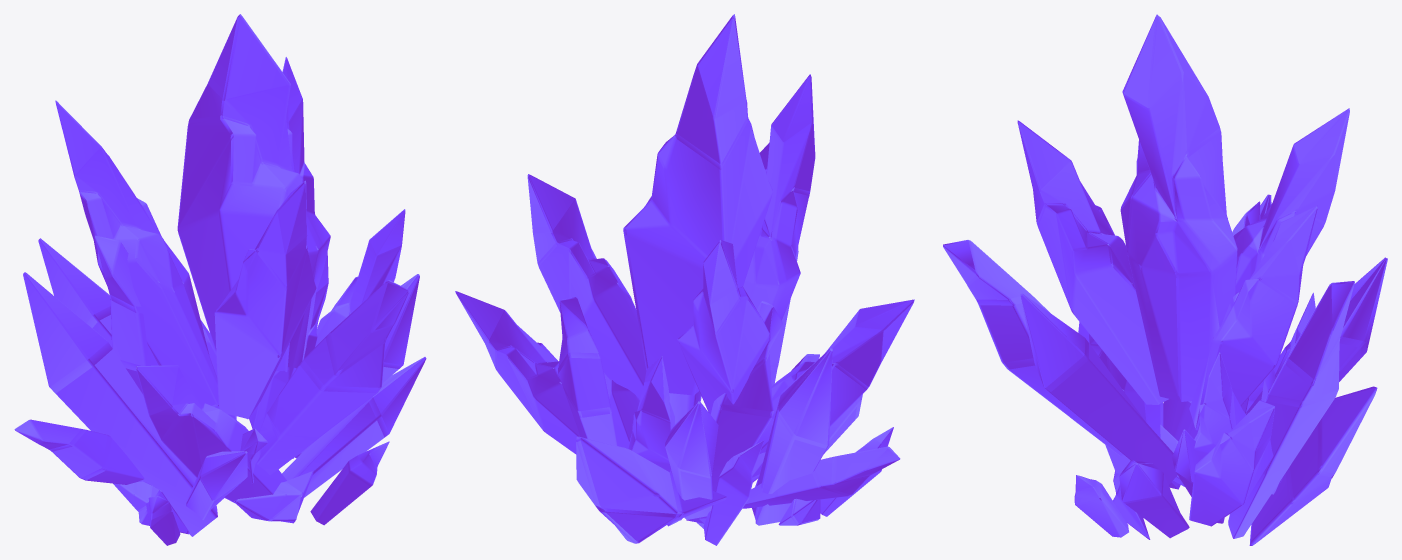
The model's file is 7-shuijing.FBX.
3 views of the same model, side by side, from view 1: azimuth 30°, elevation 25°; view 2: azimuth 150°, elevation 25°; view 3: azimuth 270°, elevation 25° (orthographic). The views are drawn at different scales.
Parts seen in each view (by area): view 1: Object145; view 2: Object145; view 3: Object145.
Boxes of the visible parts, left/top/right/bottom form: Object145: left=14, top=14, right=426, bottom=545; Object145: left=455, top=14, right=914, bottom=545; Object145: left=943, top=14, right=1387, bottom=545.
Bounding box in the file's own units: 0.7298 × 0.8565 × 0.6852.
